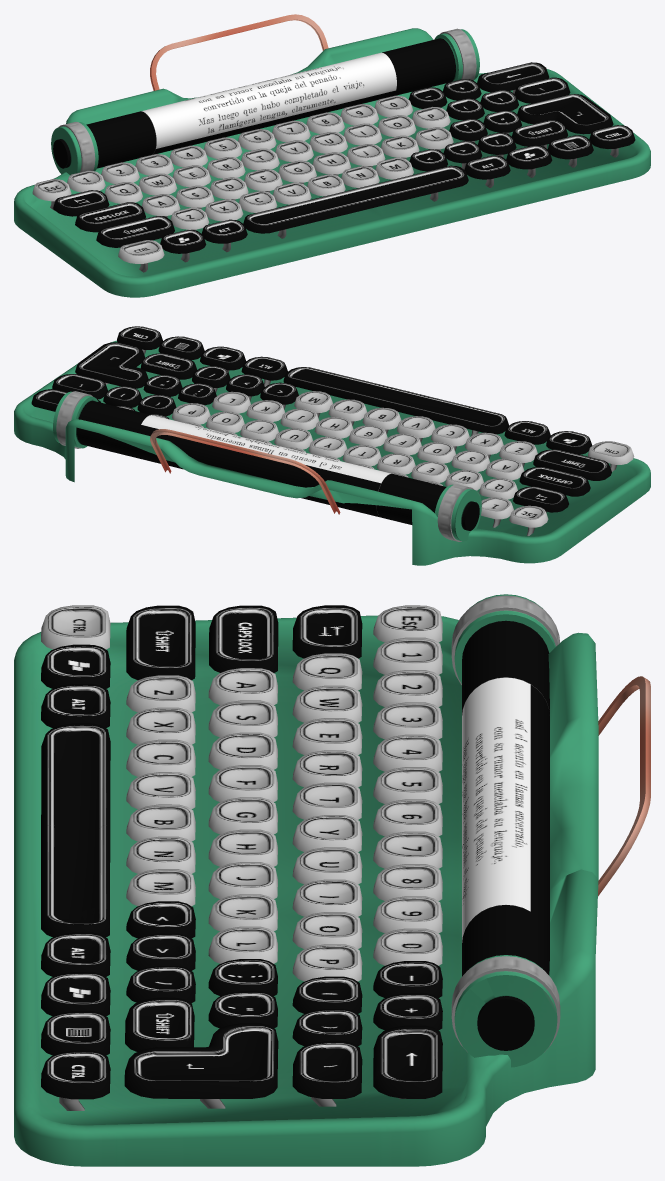
Rendered from Typewriter_Keyboard.fbx.
3 renders of one model, top to bottom at view 1: azimuth 30°, elevation 25°; view 2: azimuth 150°, elevation 25°; view 3: azimuth 270°, elevation 25°, orthographic. The views are drawn at different scales.
Parts seen in each view (by area): view 1: Base, Base2, Ctrl, Z, L, D, H, K, S, G, A, F (+27 smaller); view 2: Base, Base2, Ctrl, J, A, F, Alpha1, D, H, B, M, S (+18 smaller); view 3: Base, Base2, Ctrl, Alpha2, C, V, Alpha5, Alpha3, Alpha8, P, Alpha0, K (+27 smaller).
Part boxes in pixels (x1=…): Base: x1=14, y1=14, x2=650, y2=297; Base2: x1=32, y1=62, x2=635, y2=262; Ctrl: x1=118, y1=240, x2=164, y2=272; Z: x1=170, y1=207, x2=209, y2=230; L: x1=415, y1=127, x2=453, y2=150; D: x1=210, y1=177, x2=248, y2=200; H: x1=312, y1=152, x2=350, y2=175; K: x1=381, y1=135, x2=419, y2=159; S: x1=176, y1=185, x2=214, y2=208; G: x1=278, y1=160, x2=316, y2=184; A: x1=141, y1=194, x2=180, y2=217; F: x1=244, y1=169, x2=282, y2=192; Base: x1=14, y1=340, x2=650, y2=565; Base2: x1=31, y1=326, x2=611, y2=535; Ctrl: x1=588, y1=441, x2=634, y2=471; J: x1=280, y1=408, x2=319, y2=430; A: x1=485, y1=458, x2=524, y2=480; F: x1=383, y1=433, x2=421, y2=455; Alpha1: x1=481, y1=497, x2=513, y2=527; D: x1=417, y1=441, x2=455, y2=463; H: x1=314, y1=416, x2=353, y2=438; B: x1=362, y1=407, x2=401, y2=434; M: x1=294, y1=391, x2=332, y2=417; S: x1=451, y1=450, x2=490, y2=471; Base: x1=14, y1=594, x2=650, y2=1166; Base2: x1=41, y1=605, x2=442, y2=1110; Ctrl: x1=41, y1=605, x2=110, y2=649; Alpha2: x1=373, y1=670, x2=442, y2=707; C: x1=126, y1=739, x2=195, y2=776; V: x1=126, y1=772, x2=195, y2=809; Alpha5: x1=373, y1=767, x2=442, y2=804; Alpha3: x1=373, y1=702, x2=442, y2=739; Alpha8: x1=373, y1=864, x2=442, y2=900; P: x1=292, y1=944, x2=362, y2=981; Alpha0: x1=373, y1=928, x2=442, y2=965; K: x1=208, y1=894, x2=277, y2=931.
Bounding box in the file's own units: 4765 × 744 × 2500.
